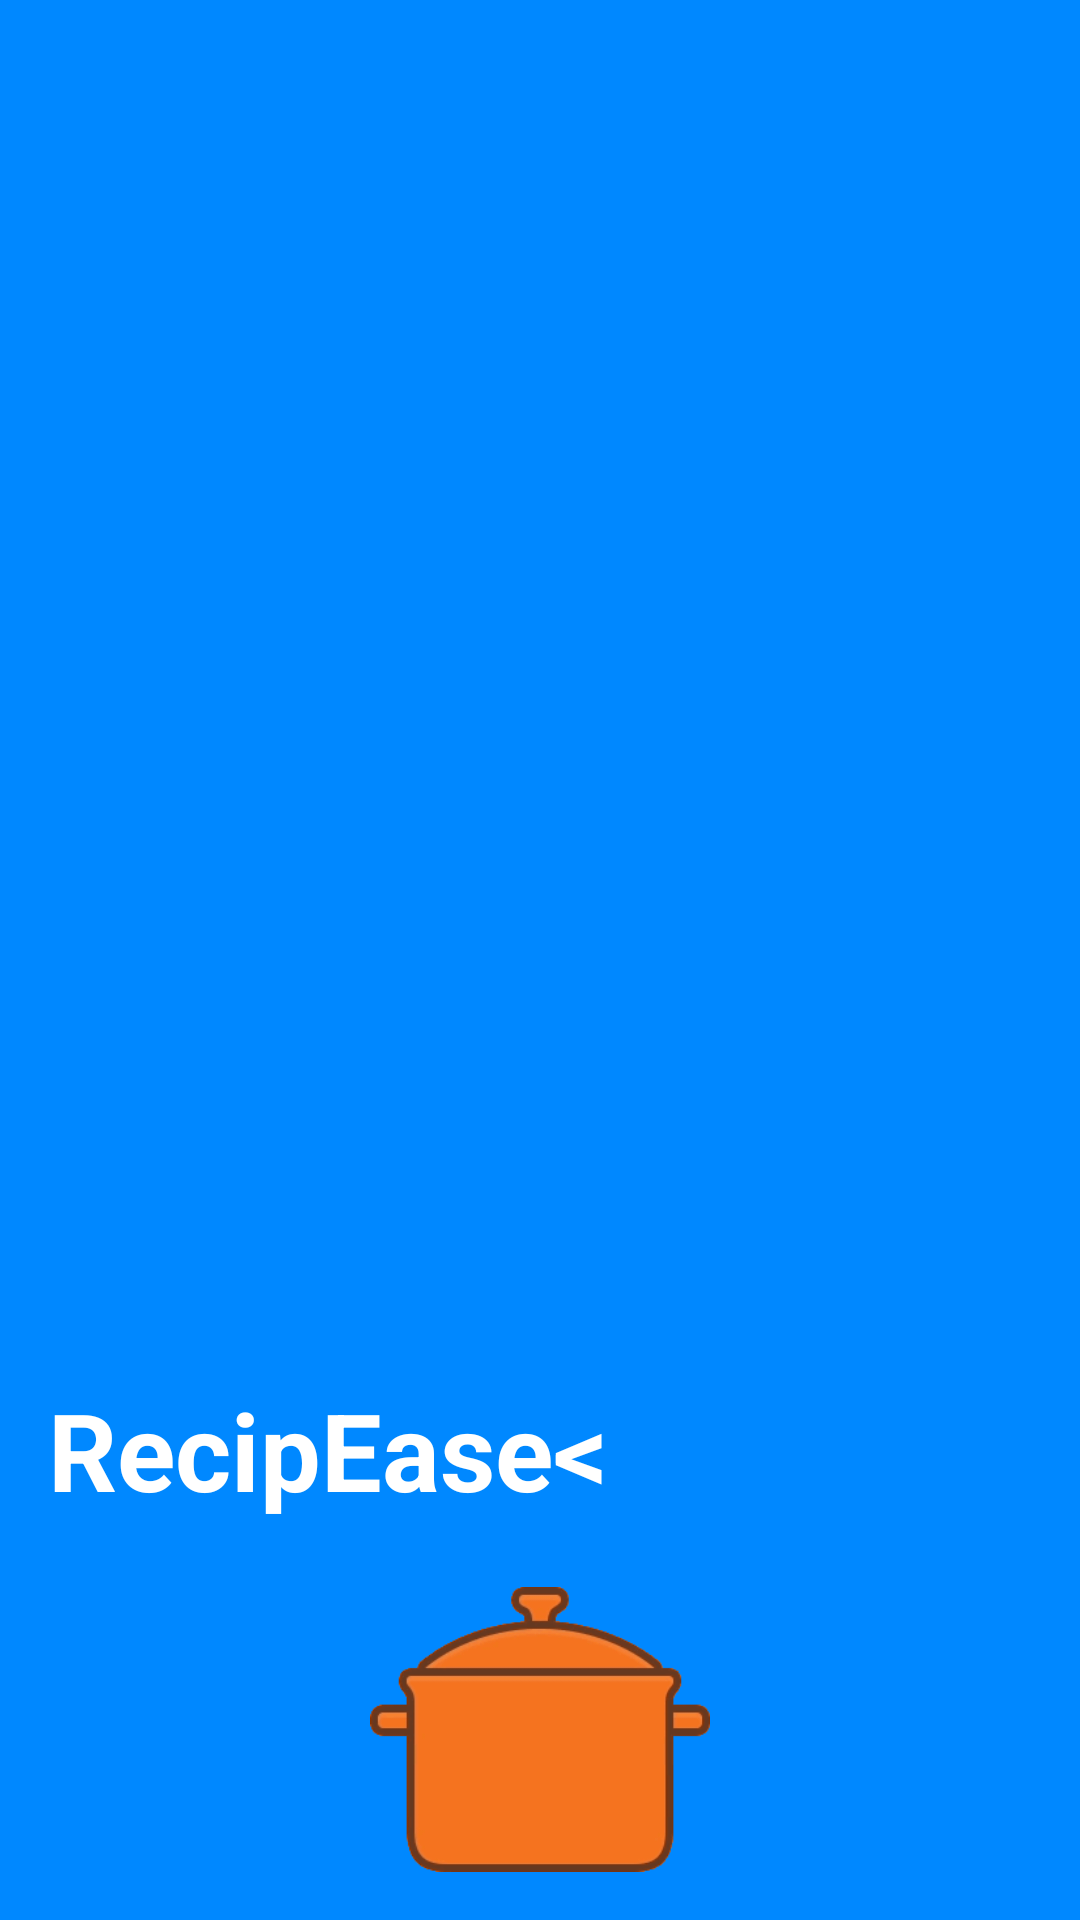

Screen size 1080 × 1920. Icon name, then its center in pixels as point (x, y):
pot: point (540, 1729)
